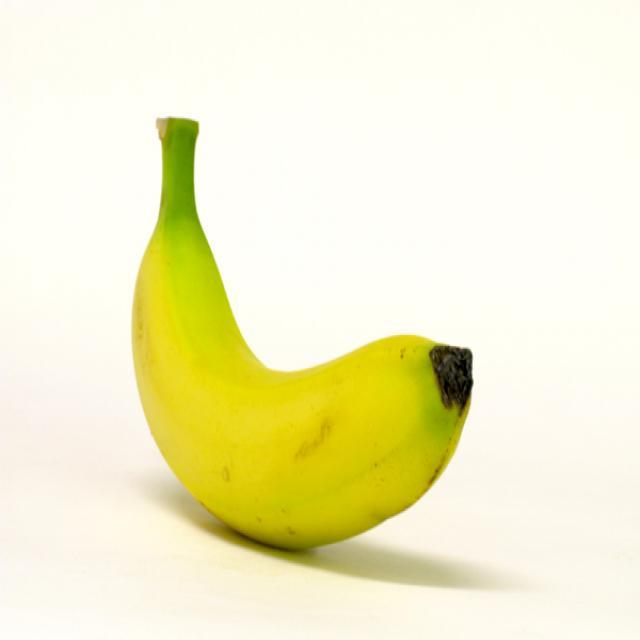Banana: (122, 112, 474, 552)
